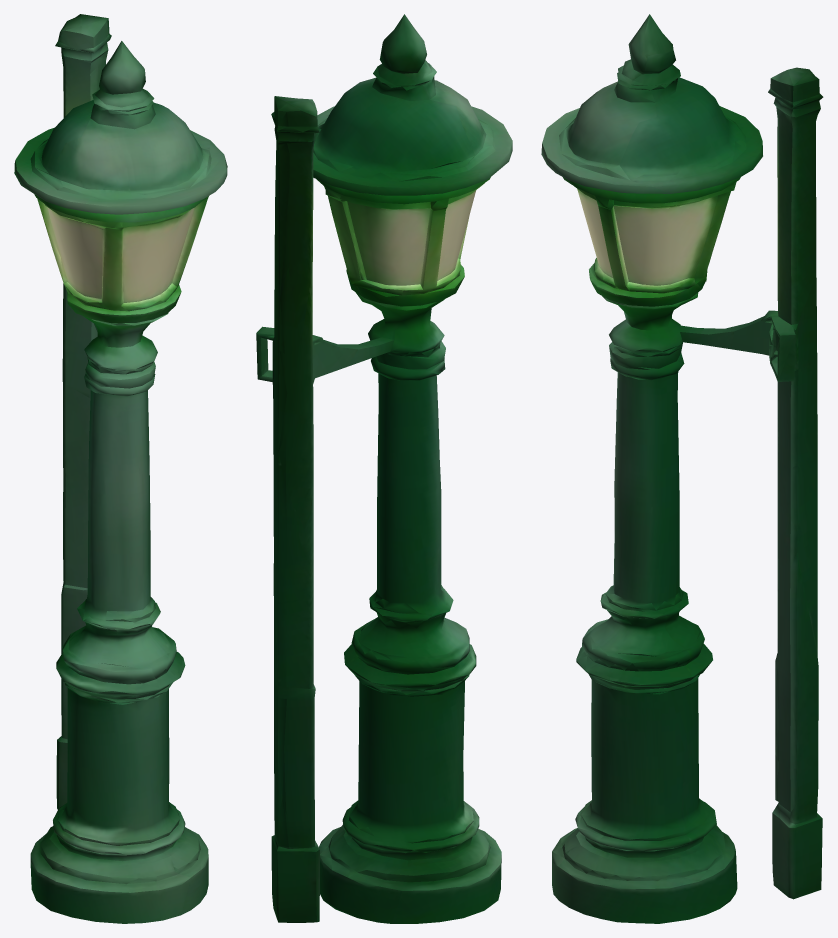
The model's file is m2StreetLamp.glb.
3 renders of one model, left to right at view 1: azimuth 30°, elevation 25°; view 2: azimuth 150°, elevation 25°; view 3: azimuth 270°, elevation 25°, orthographic. The views are drawn at different scales.
Parts seen in each view (by area): view 1: model; view 2: model; view 3: model.
Boxes of the visible parts, <box> form: model: <box>14,14,227,923</box>; model: <box>256,14,512,923</box>; model: <box>541,14,823,923</box>.
Bounding box in the file's own units: 0.4281 × 1.9 × 0.5558.
Materials: 1 (1 with a texture image).
